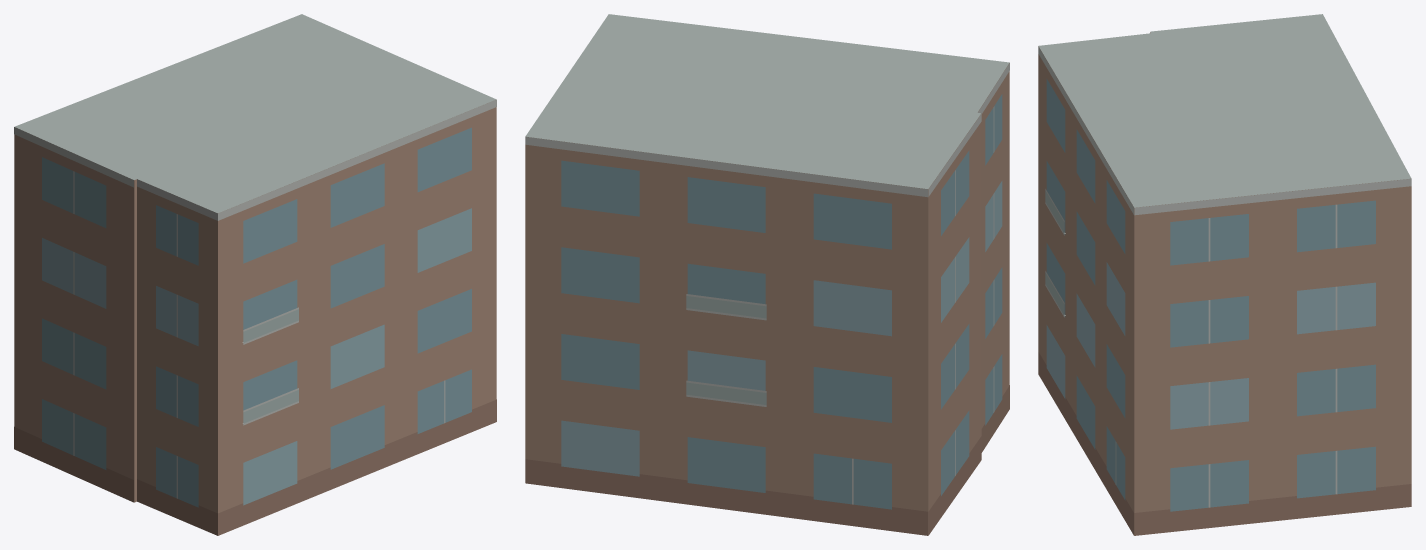
Rendered from survey-upis-32598446.glb.
3 views of the same model, side by side, from view 1: azimuth 30°, elevation 25°; view 2: azimuth 150°, elevation 25°; view 3: azimuth 270°, elevation 25° (orthographic). The views are drawn at different scales.
Visible parts, largest first — view 1: survey-upis-32598446.tmp; view 2: survey-upis-32598446.tmp; view 3: survey-upis-32598446.tmp.
Boxes of the visible parts, x1,y1,x2,y2 form: survey-upis-32598446.tmp: [14, 14, 496, 535]; survey-upis-32598446.tmp: [525, 14, 1009, 535]; survey-upis-32598446.tmp: [1038, 14, 1411, 535].
Bounding box in the file's own units: 13.3 × 10.5 × 10.83.
